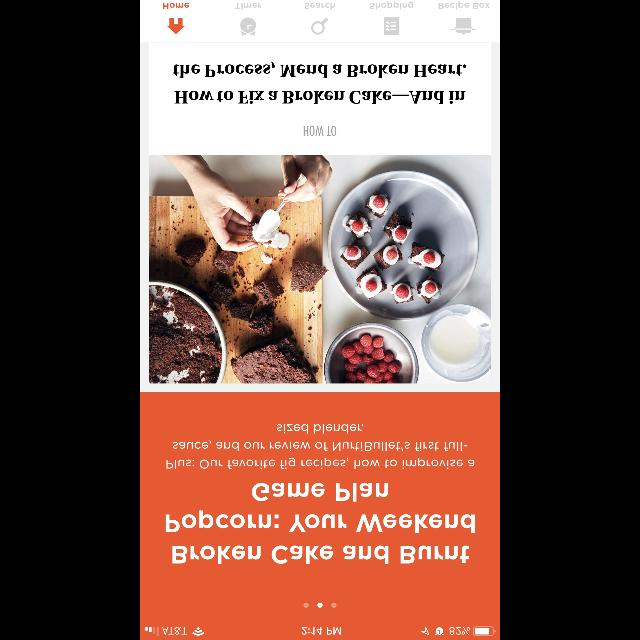icon: (384, 17, 400, 35), (240, 18, 256, 36), (167, 18, 185, 34), (312, 18, 328, 34)
image: (149, 155, 491, 383), (452, 18, 476, 34)
pageindicator: (304, 602, 336, 608)
text: (167, 482, 476, 564), (166, 424, 474, 468), (174, 62, 466, 105), (438, 2, 489, 10), (370, 2, 414, 10), (304, 126, 336, 136), (304, 2, 336, 10), (235, 2, 261, 10), (163, 3, 189, 9)
uppertaskbar: (140, 626, 500, 640)
